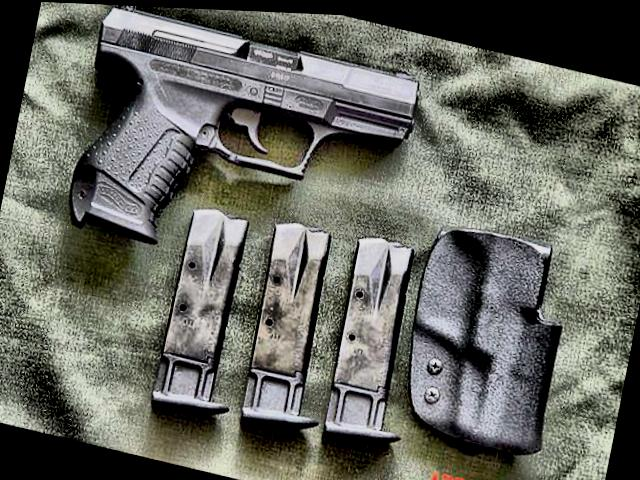pistol: (59, 2, 426, 297)
